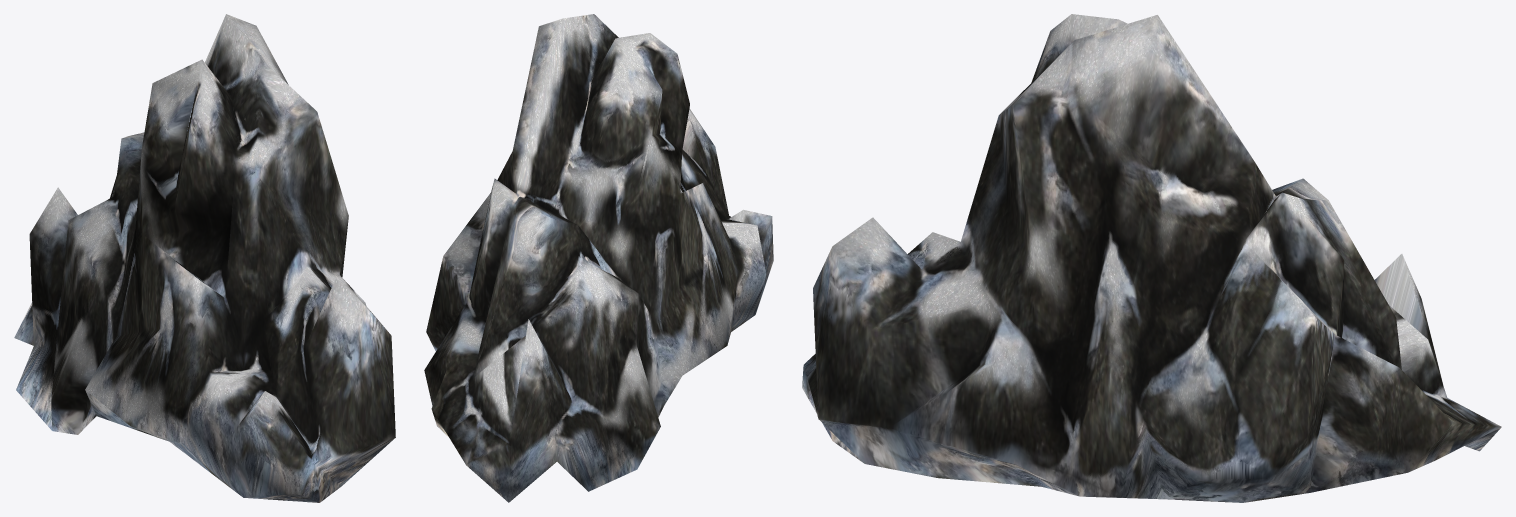
Rendered from Rock_gate.FBX.
The picture shows the model from 3 angles, left to right: view 1: azimuth 30°, elevation 25°; view 2: azimuth 150°, elevation 25°; view 3: azimuth 270°, elevation 25°; orthographic projection. The views are drawn at different scales.
Visible parts, largest first — view 1: Rock_02; view 2: Rock_02; view 3: Rock_02.
Part boxes in pixels (<box>): Rock_02: <box>14,14,395,502</box>; Rock_02: <box>424,14,773,502</box>; Rock_02: <box>802,14,1501,502</box>.
Bounding box in the file's own units: 3 × 4.9 × 6.21.
